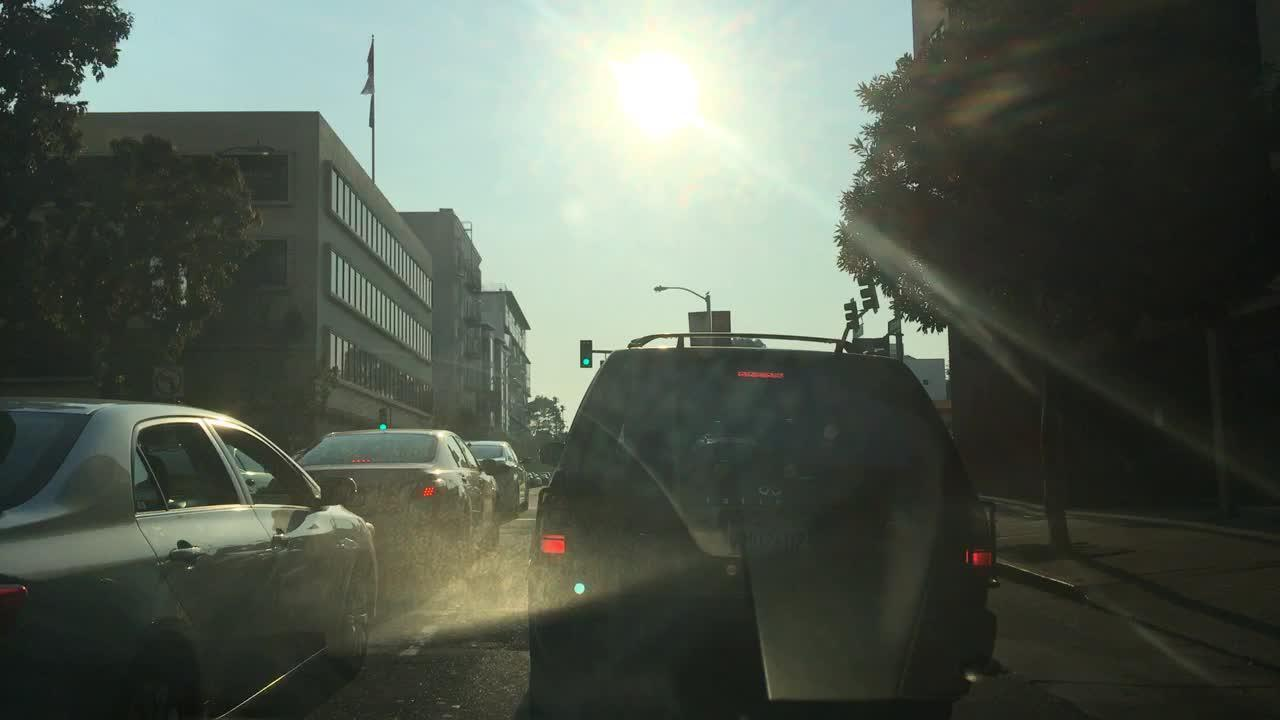Infiniti: (749, 474, 790, 503)
